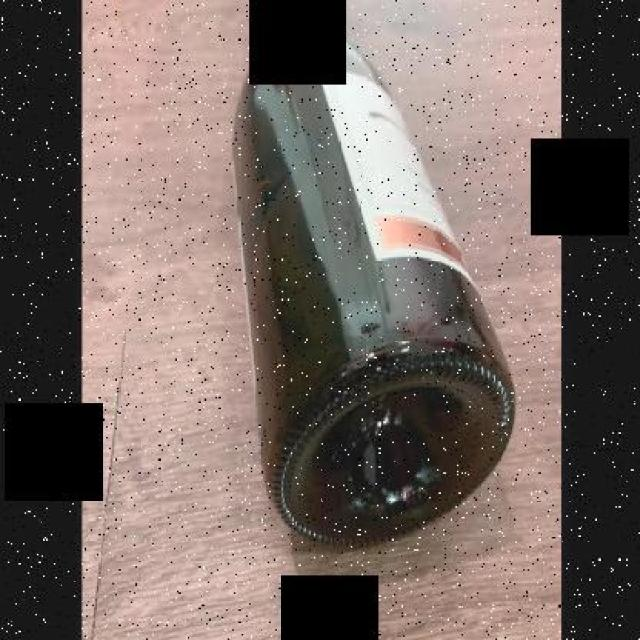glass: (230, 48, 518, 540)
